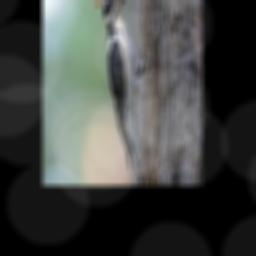Woodpecker: (96, 0, 146, 179)
